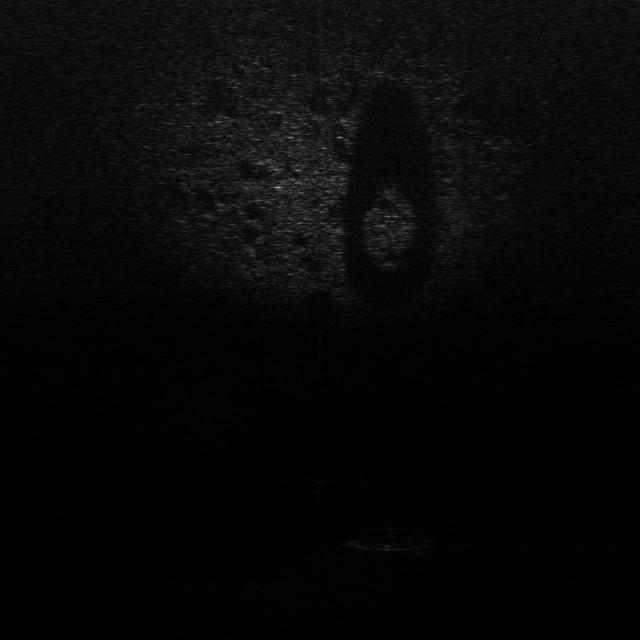ball: (303, 466, 337, 487)
tyre: (343, 519, 438, 554)
